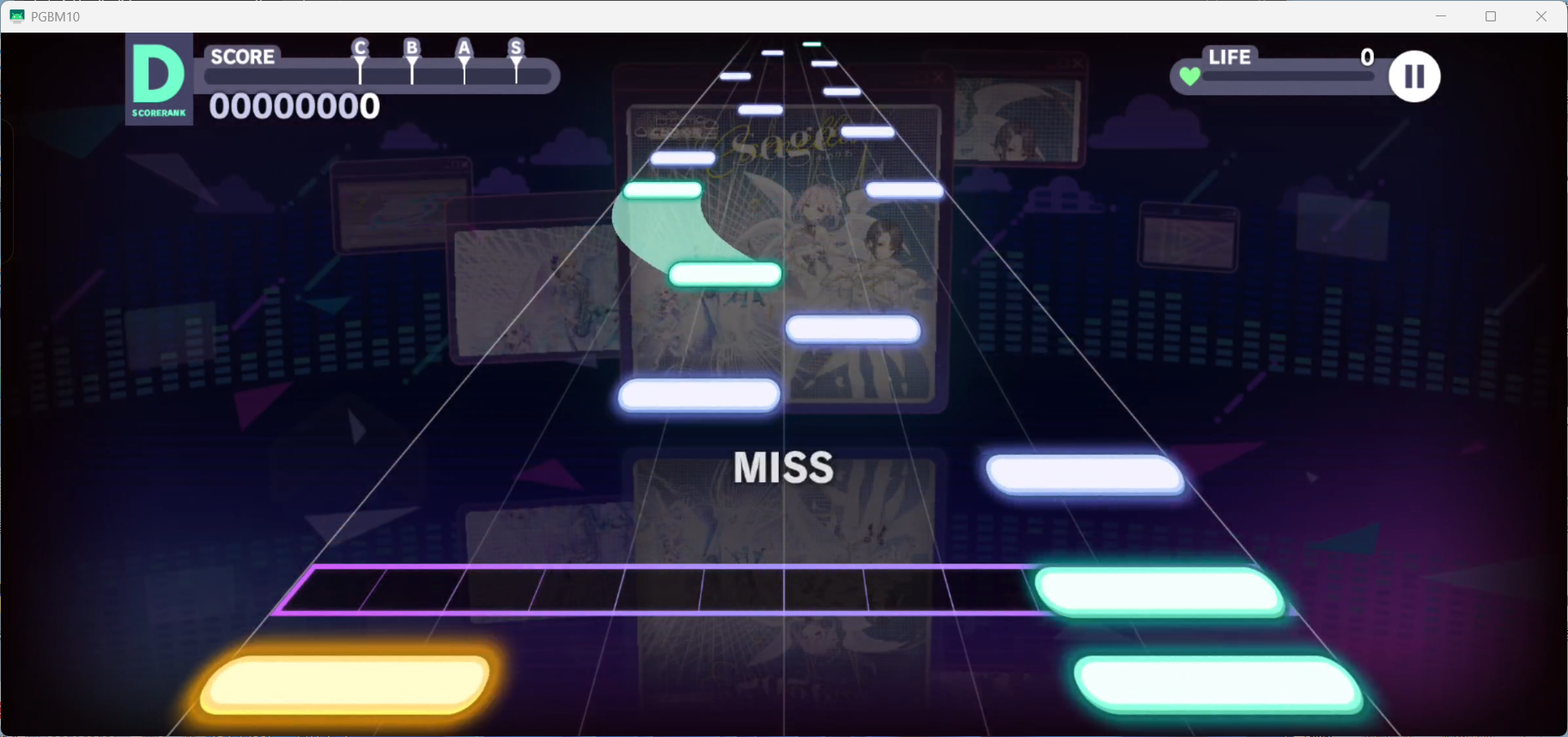hold: (612, 200, 758, 262)
tap: (1073, 654, 1366, 716), (201, 655, 490, 716), (1034, 565, 1286, 619), (985, 454, 1188, 497), (617, 378, 781, 414), (785, 313, 922, 345), (669, 262, 781, 286), (866, 181, 945, 198), (623, 182, 701, 199), (650, 150, 714, 166), (841, 126, 894, 138), (738, 104, 782, 116), (823, 88, 861, 95), (720, 72, 751, 80), (810, 60, 837, 67), (761, 50, 784, 55), (803, 41, 822, 46)
